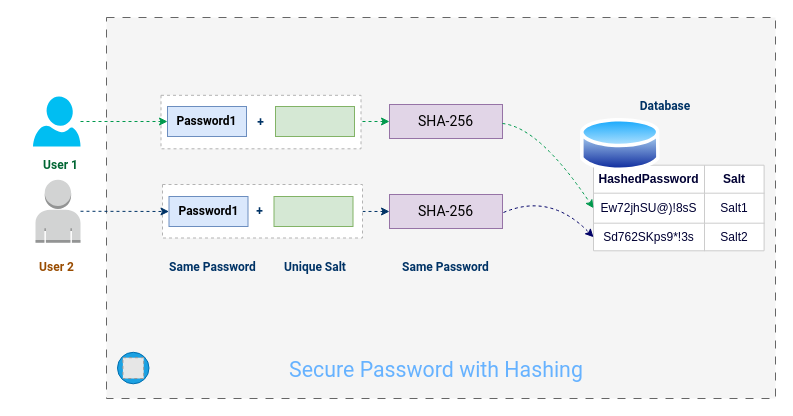
Some shapes in this 793 by 416 pixel diagram are drawn without their labels. Grey dashed boxes stand in for pictures. Each missing label, with the box of its shape:
Salt 1: (274, 106, 354, 136)
Salt 2: (273, 196, 353, 226)
